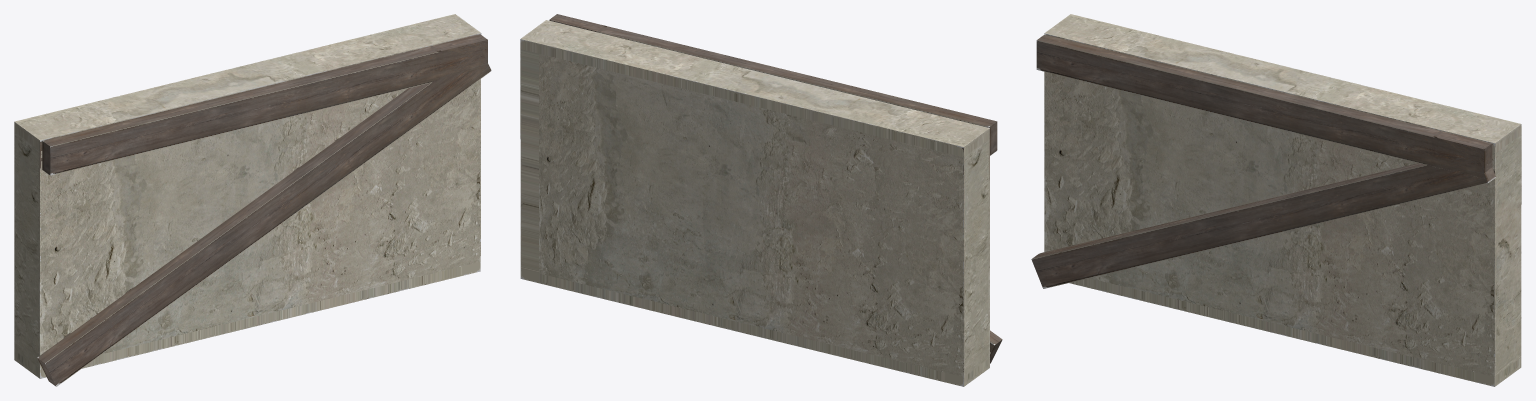
File: pared_1_punta_C.fbx
3 renders of one model, left to right at view 1: azimuth 30°, elevation 25°; view 2: azimuth 150°, elevation 25°; view 3: azimuth 330°, elevation 25°, orthographic. The views are drawn at different scales.
Visible parts, largest first — view 1: pared_1_punta_C; view 2: pared_1_punta_C; view 3: pared_1_punta_C.
Boxes of the visible parts, x1,y1,x2,y2 form: pared_1_punta_C: (14,14,491,386); pared_1_punta_C: (520,14,1002,386); pared_1_punta_C: (1031,14,1521,386).
Bounding box in the file's own units: 406 × 210 × 54.43.
